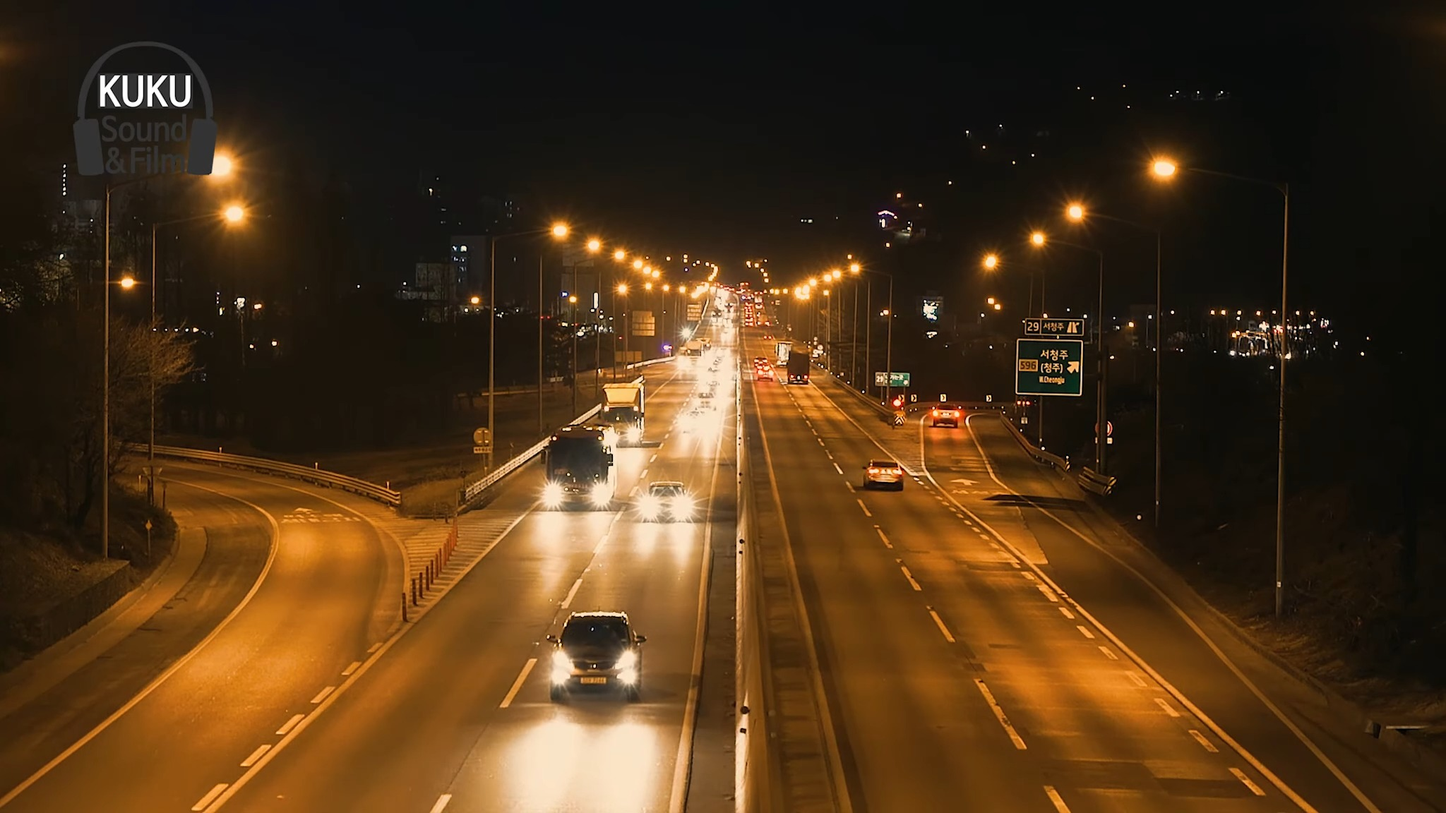car: (546, 609, 643, 704), (540, 429, 613, 515), (860, 456, 907, 485)
truck: (597, 376, 654, 452)
